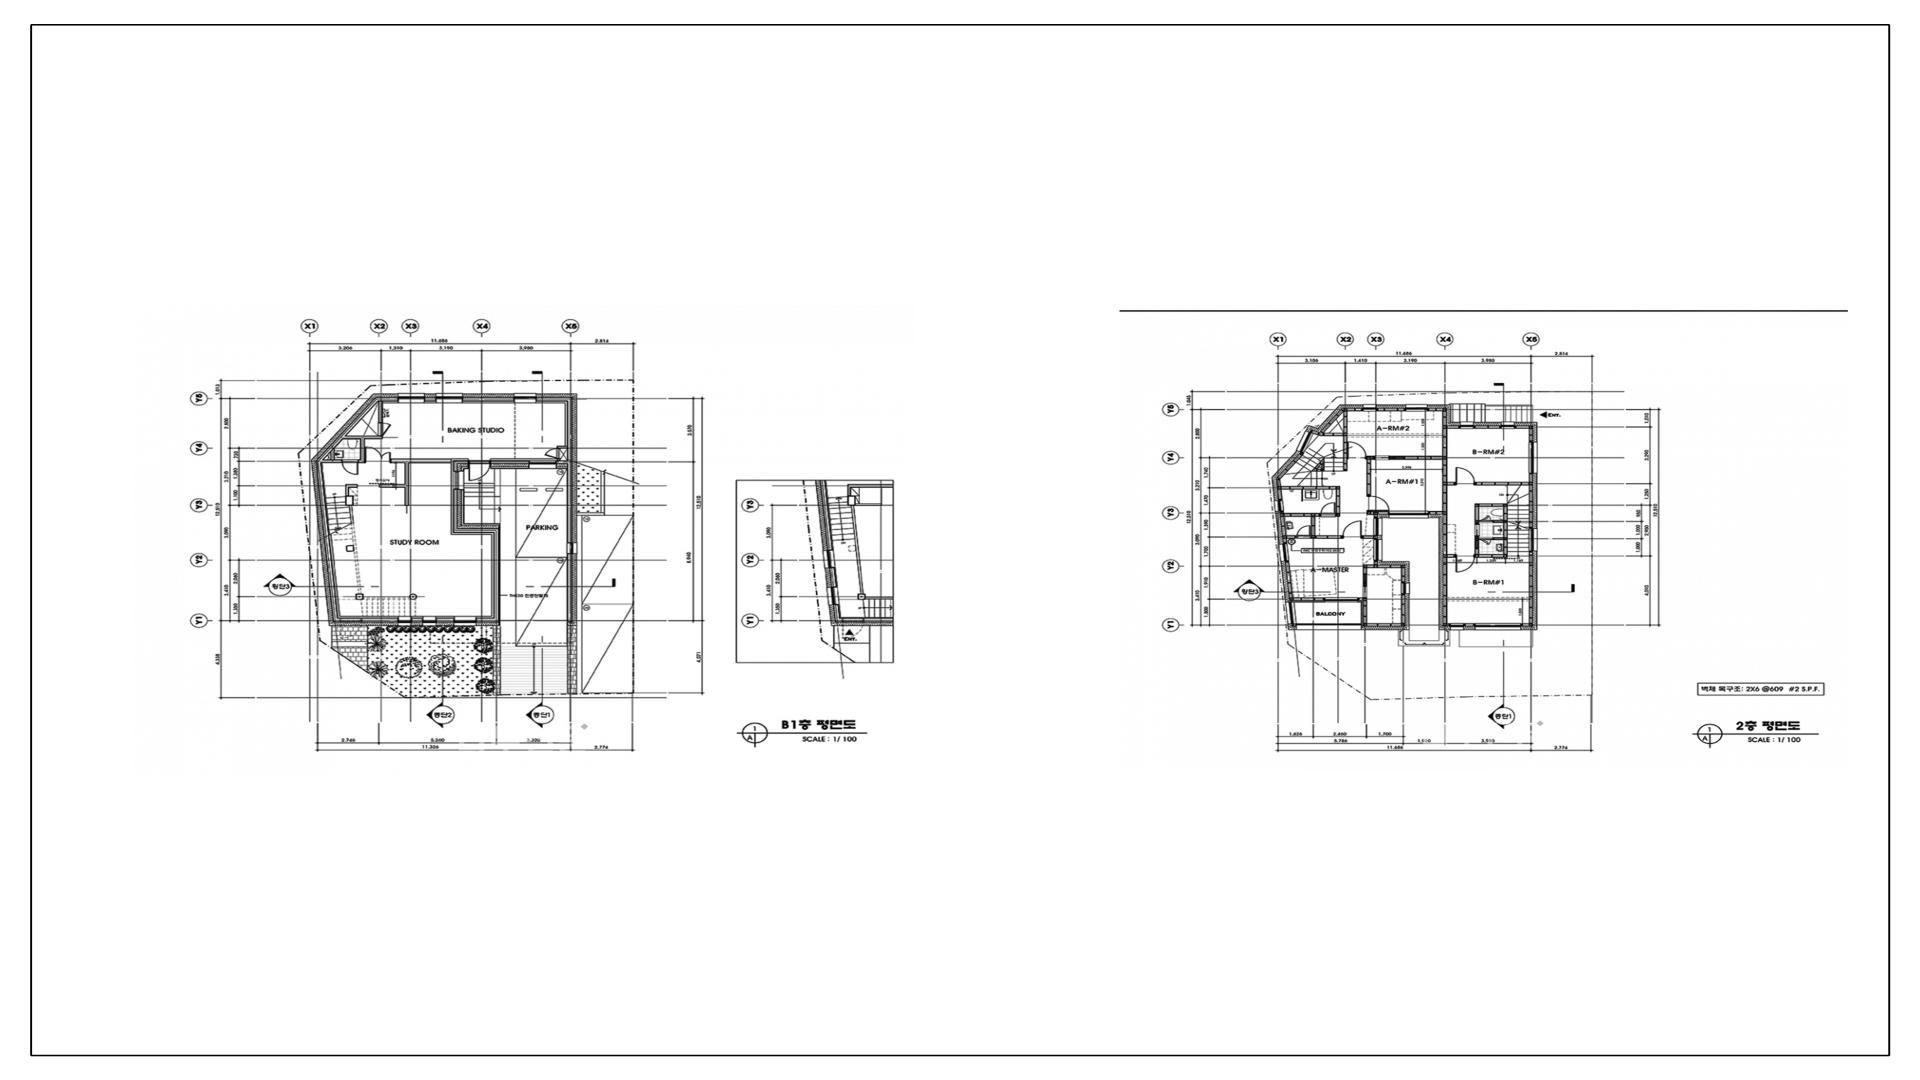door: (468, 460, 491, 481), (365, 447, 392, 463), (1342, 520, 1362, 539), (1455, 467, 1476, 485), (1455, 554, 1476, 572), (1366, 496, 1390, 512), (1348, 442, 1366, 459), (342, 460, 359, 475), (1320, 502, 1336, 517), (1296, 525, 1311, 539), (378, 423, 392, 435), (1474, 524, 1480, 549), (1362, 574, 1367, 597), (1374, 456, 1404, 460), (1480, 516, 1493, 524), (1480, 537, 1493, 545)
wall: (311, 460, 338, 618), (335, 393, 378, 439), (567, 401, 576, 543), (1439, 518, 1448, 624), (1271, 451, 1304, 479), (311, 435, 343, 463), (567, 554, 578, 622), (1317, 405, 1344, 431), (1528, 551, 1538, 624), (493, 533, 500, 618), (1280, 560, 1294, 603), (328, 618, 398, 626), (1528, 473, 1538, 529), (454, 489, 464, 533), (1443, 429, 1448, 512), (1275, 510, 1287, 545), (463, 393, 514, 401), (1361, 622, 1410, 630), (537, 393, 578, 402), (491, 460, 530, 469), (464, 524, 500, 533), (1374, 560, 1410, 568), (1271, 477, 1283, 501), (1400, 595, 1410, 622), (1344, 411, 1348, 471), (392, 459, 451, 463), (1305, 426, 1325, 436), (1377, 405, 1406, 411), (1366, 460, 1371, 496), (1503, 506, 1507, 554), (476, 618, 500, 626), (1474, 422, 1501, 429), (1294, 597, 1325, 603), (556, 446, 567, 462), (405, 463, 409, 505), (1340, 405, 1364, 411), (1514, 422, 1538, 429), (375, 394, 398, 401), (343, 435, 382, 439), (359, 439, 365, 463), (454, 460, 468, 471), (1404, 456, 1443, 460), (1428, 405, 1451, 411), (1280, 487, 1336, 489), (1284, 513, 1320, 517), (345, 484, 357, 496), (1362, 597, 1367, 624), (1476, 483, 1528, 485), (1428, 512, 1448, 518), (1311, 535, 1342, 539), (1476, 554, 1507, 558), (1528, 429, 1538, 442), (1336, 487, 1340, 517), (1402, 568, 1410, 583), (1520, 624, 1538, 630), (1443, 422, 1460, 429), (436, 618, 454, 625), (1362, 564, 1374, 574), (380, 484, 405, 488), (1374, 512, 1389, 518), (425, 393, 436, 401), (1474, 506, 1480, 524), (378, 401, 382, 423), (1474, 504, 1507, 506), (1323, 433, 1344, 436), (1443, 411, 1451, 422), (556, 462, 567, 469), (411, 618, 423, 625), (1464, 624, 1476, 630), (1439, 624, 1451, 630), (1311, 517, 1315, 535), (345, 496, 353, 505), (1287, 624, 1296, 630), (320, 460, 342, 463), (1362, 535, 1374, 539), (1286, 535, 1296, 539), (1366, 456, 1375, 460), (1374, 535, 1382, 539), (1357, 597, 1362, 603), (1493, 537, 1503, 539), (1448, 554, 1455, 558), (1476, 549, 1480, 554), (1367, 512, 1374, 514), (1448, 483, 1455, 485), (1493, 521, 1503, 522)
window: (1296, 624, 1362, 630), (1296, 431, 1313, 452), (1389, 510, 1428, 518), (1476, 624, 1520, 630), (1528, 442, 1538, 473), (398, 393, 425, 404), (436, 393, 463, 404), (530, 460, 556, 469), (514, 393, 537, 404), (454, 616, 476, 626), (1286, 603, 1296, 624), (1528, 529, 1538, 551), (454, 471, 464, 489), (1278, 543, 1288, 560), (1406, 404, 1428, 411), (1374, 539, 1382, 560), (1325, 597, 1357, 603), (422, 616, 436, 626), (397, 616, 411, 626), (1374, 518, 1382, 535), (1400, 583, 1411, 595), (1274, 500, 1284, 512), (567, 542, 578, 554), (1364, 404, 1377, 411), (1460, 422, 1474, 429), (1451, 624, 1464, 630), (1501, 422, 1514, 429)
